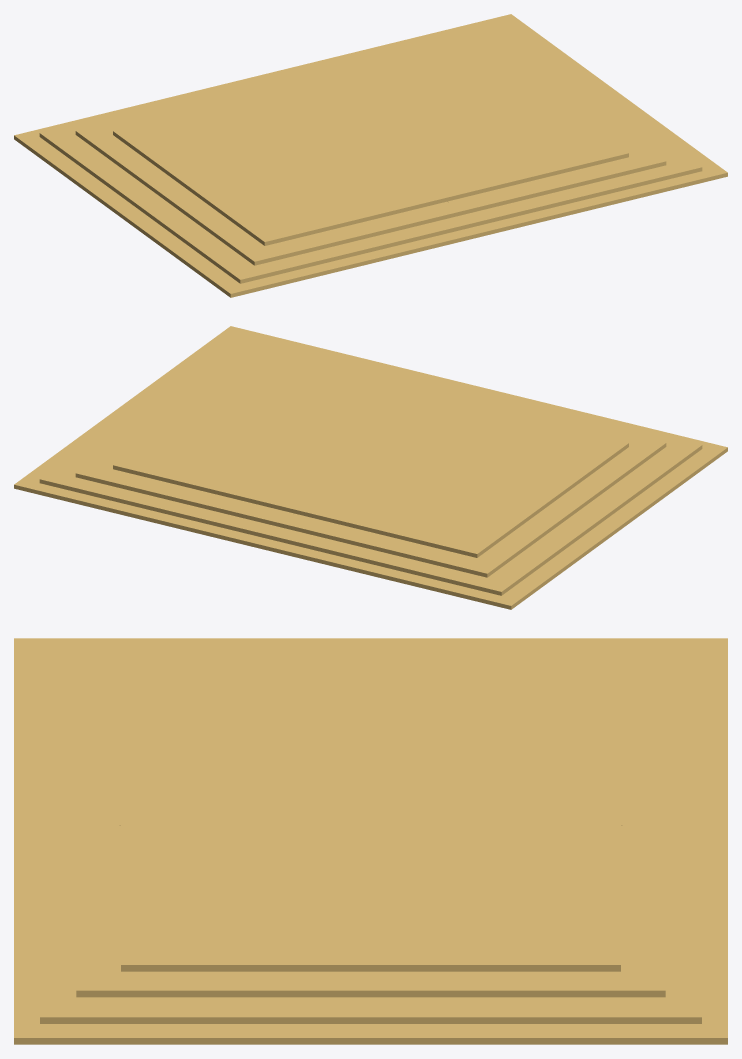
Rendered from Square.fbx.
3 views of the same model, one above another, from view 1: azimuth 30°, elevation 25°; view 2: azimuth 150°, elevation 25°; view 3: azimuth 270°, elevation 25° (orthographic). The views are drawn at different scales.
Parts seen in each view (by area): view 1: Square; view 2: Square; view 3: Square.
Boxes of the visible parts, x1,y1,x2,y2 form: Square: (14,14,727,297); Square: (14,326,727,609); Square: (14,638,727,1044).
Bounding box in the file's own units: 795 × 24.18 × 600.
